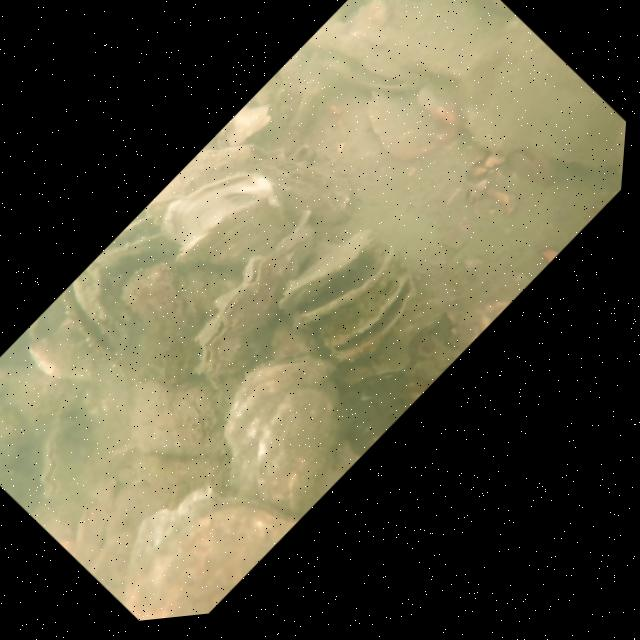Oyster-Closed: (136, 81, 371, 322), (175, 318, 397, 546), (89, 436, 303, 626), (161, 199, 359, 402), (10, 407, 109, 509)
Oyster-Indeterminate: (419, 0, 635, 251), (95, 330, 262, 502), (102, 210, 257, 368), (13, 291, 145, 426)
Oyster-Open: (141, 134, 306, 304), (290, 0, 440, 139), (268, 207, 407, 350), (306, 249, 434, 380), (43, 251, 168, 380), (88, 199, 195, 308)
